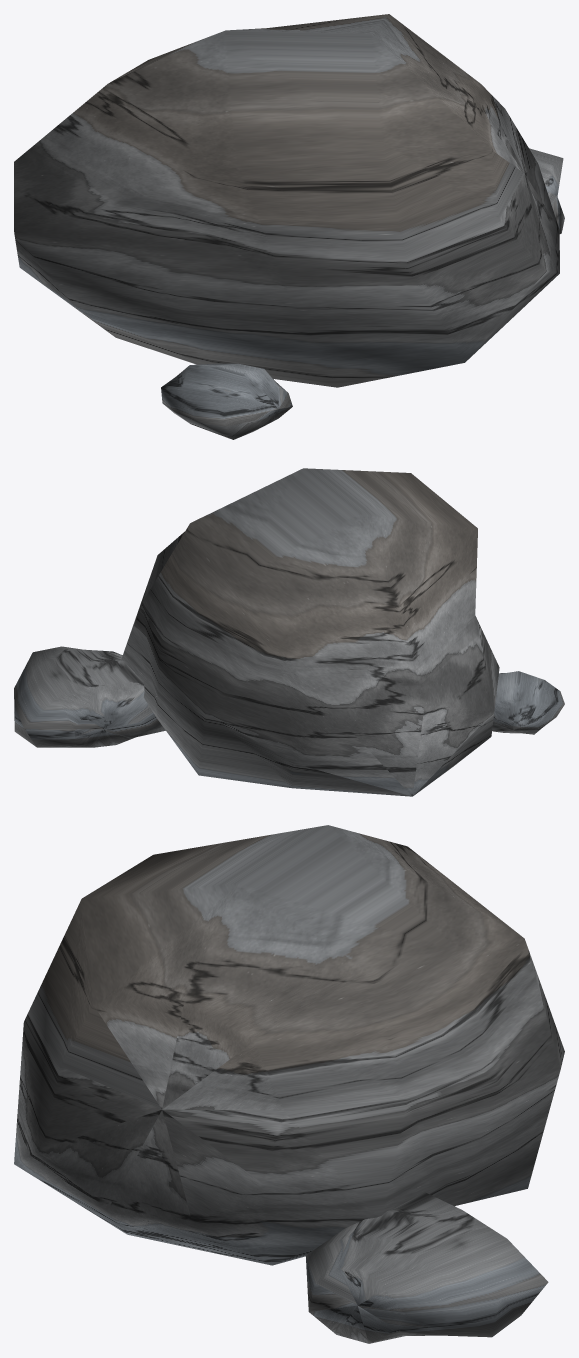
File: rock_boulder_l1.gltf
3 renders of one model, top to bottom at view 1: azimuth 30°, elevation 25°; view 2: azimuth 150°, elevation 25°; view 3: azimuth 270°, elevation 25°, orthographic. The views are drawn at different scales.
Visible parts, largest first — view 1: rock_boulder_l1; view 2: rock_boulder_l1; view 3: rock_boulder_l1.
Part boxes in pixels (x1,y1,x2,y2): rock_boulder_l1: (14,14,564,439); rock_boulder_l1: (14,468,564,796); rock_boulder_l1: (14,825,564,1343).
Bounding box in the file's own units: 2.32 × 1.18 × 1.79.
Materials: 1 (1 with a texture image).
